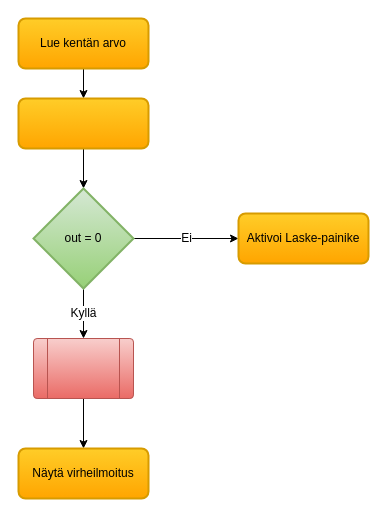
This 386x516 diagram has some shape labels left out. The centre of each missing label's shape, as x and y in pixels:
"Luo virheilmoitus" goes at (83,368).
"Selvitä numeerinen arvo TryParse-metodilla" goes at (83,123).
